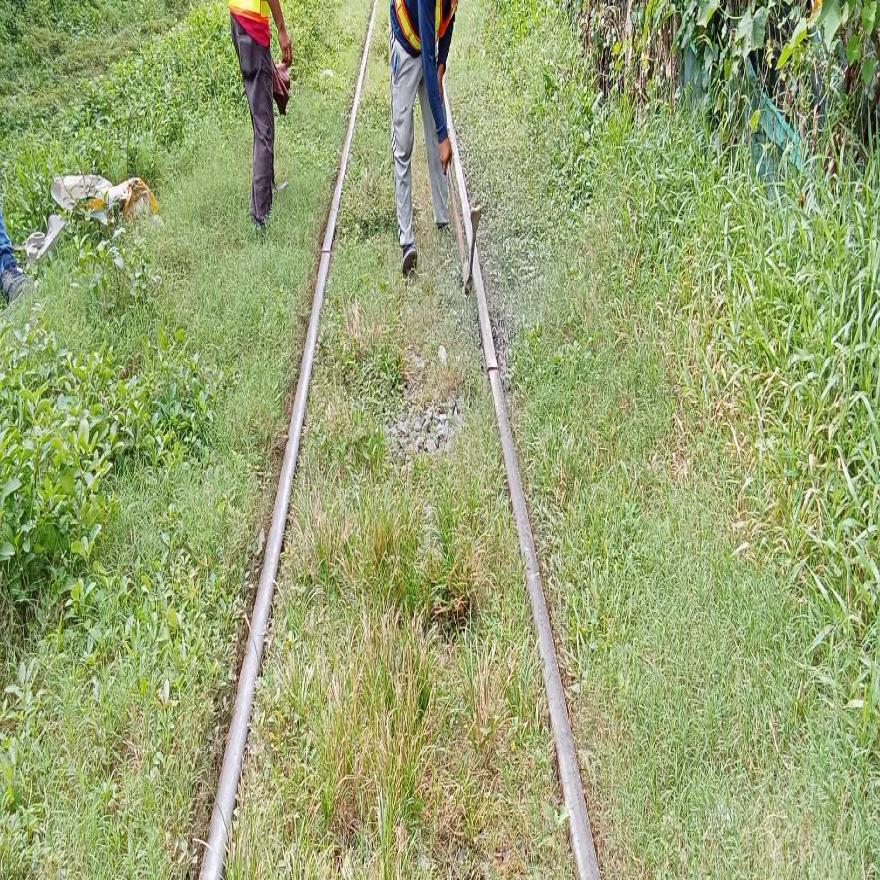railway-gap: (477, 328, 512, 404), (308, 219, 342, 283)
